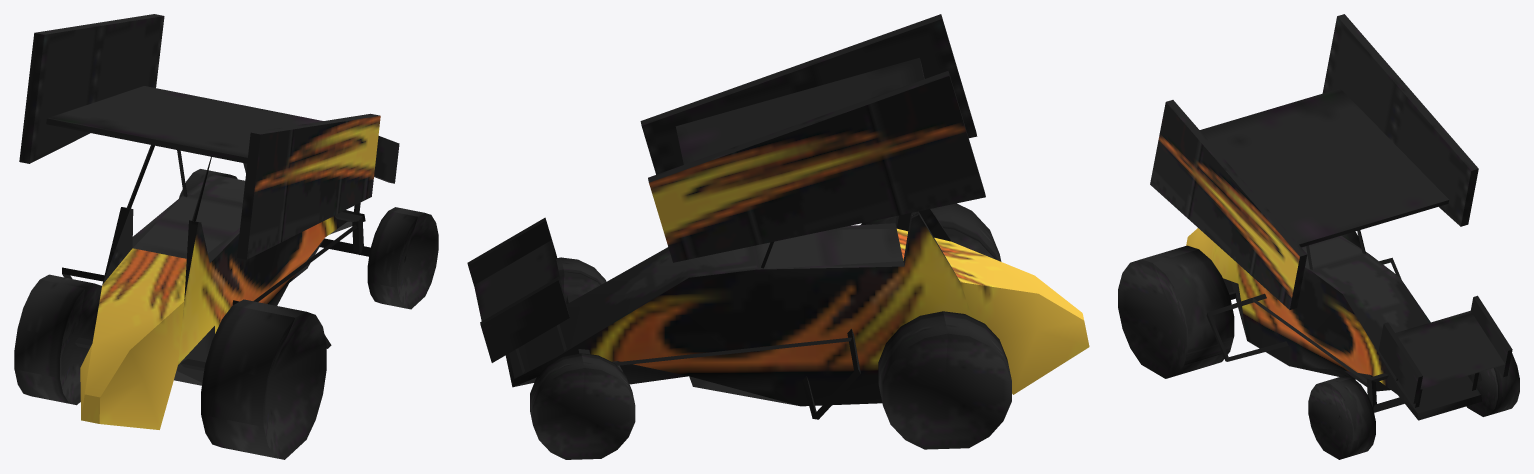
Rendered from sc2008.ico.obj.
3 renders of one model, left to right at view 1: azimuth 30°, elevation 25°; view 2: azimuth 150°, elevation 25°; view 3: azimuth 270°, elevation 25°, orthographic. The views are drawn at different scales.
Bounding box in the file's own units: 3.31 × 2.56 × 3.11.
1 material, 1 textured.
